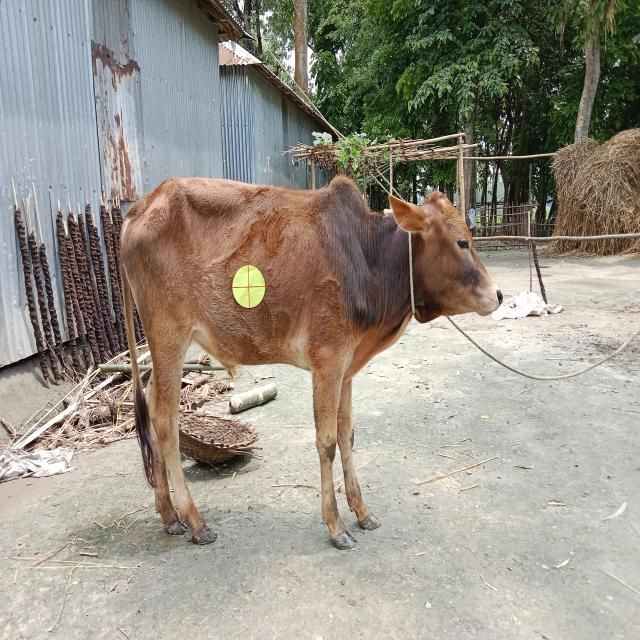badan_sapi: (124, 179, 370, 371)
sapi: (98, 161, 516, 562)
